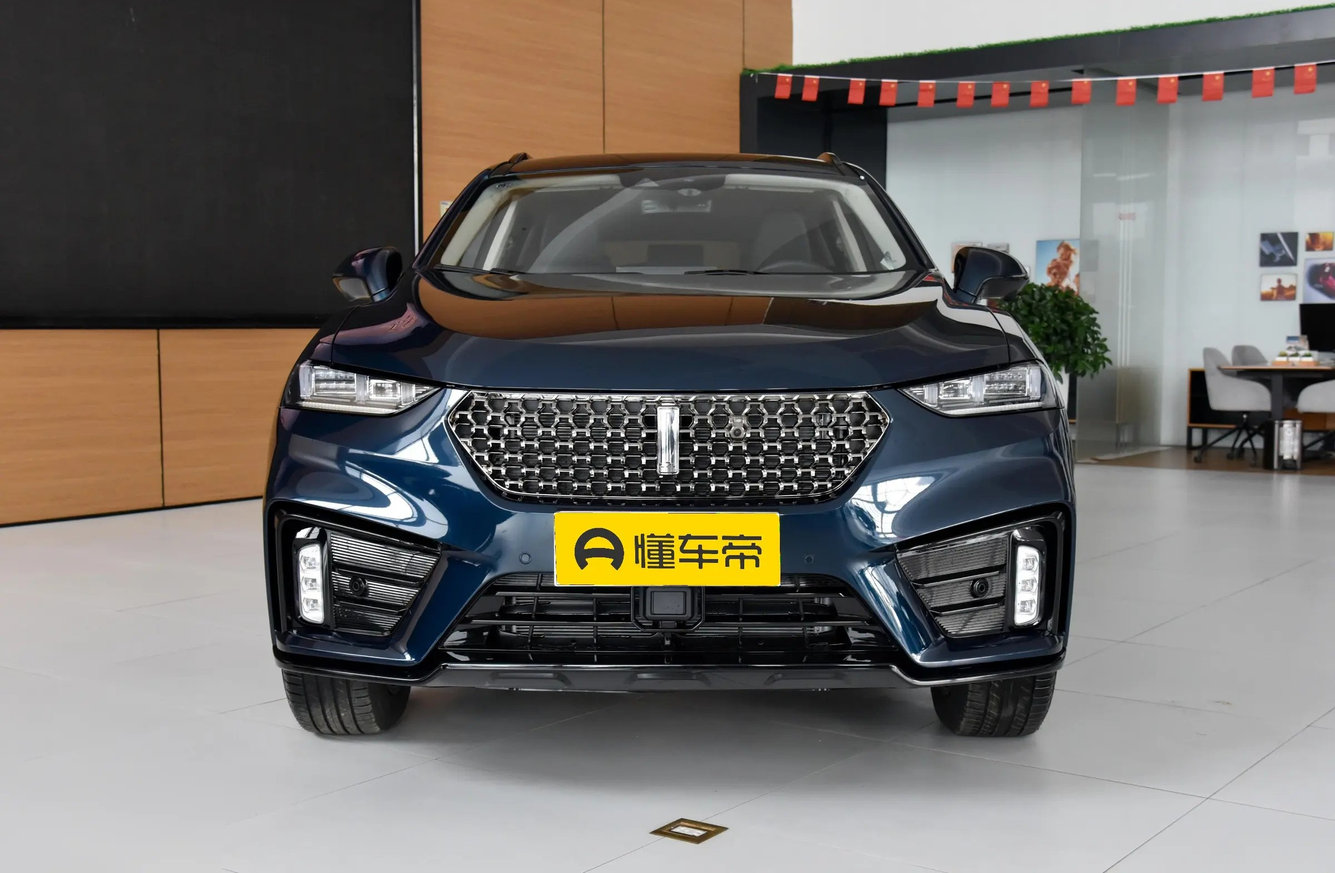WEY: (657, 407, 679, 475)
